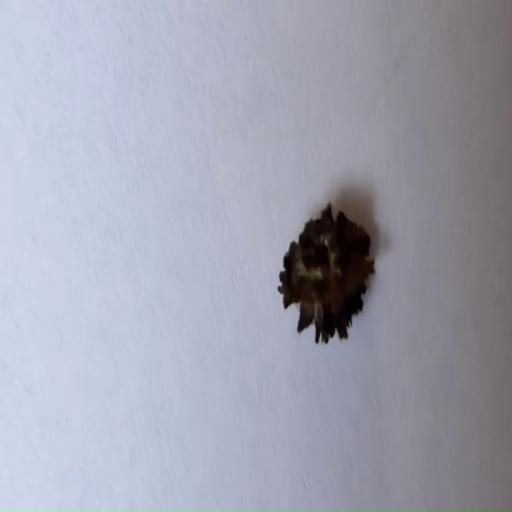papaya_seed: (272, 178, 387, 366)
